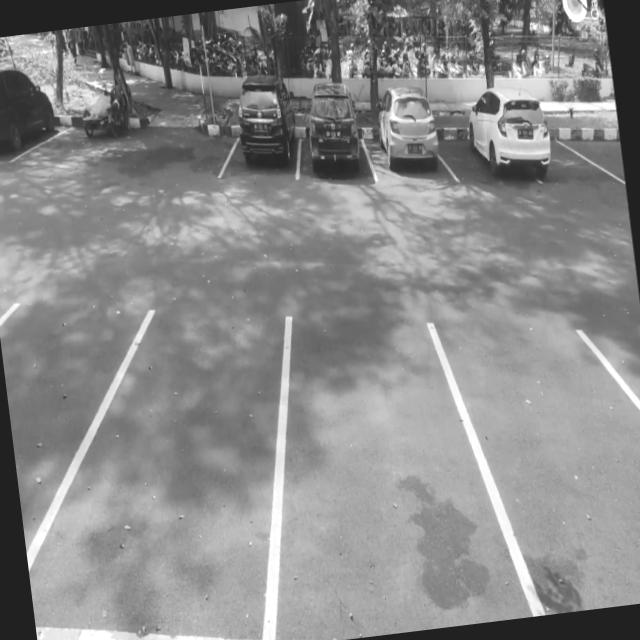car: (438, 94, 536, 188), (220, 84, 303, 187), (288, 90, 372, 180), (364, 90, 446, 182), (0, 62, 58, 164)
free: (240, 303, 508, 640), (68, 308, 302, 640), (472, 318, 640, 619)
